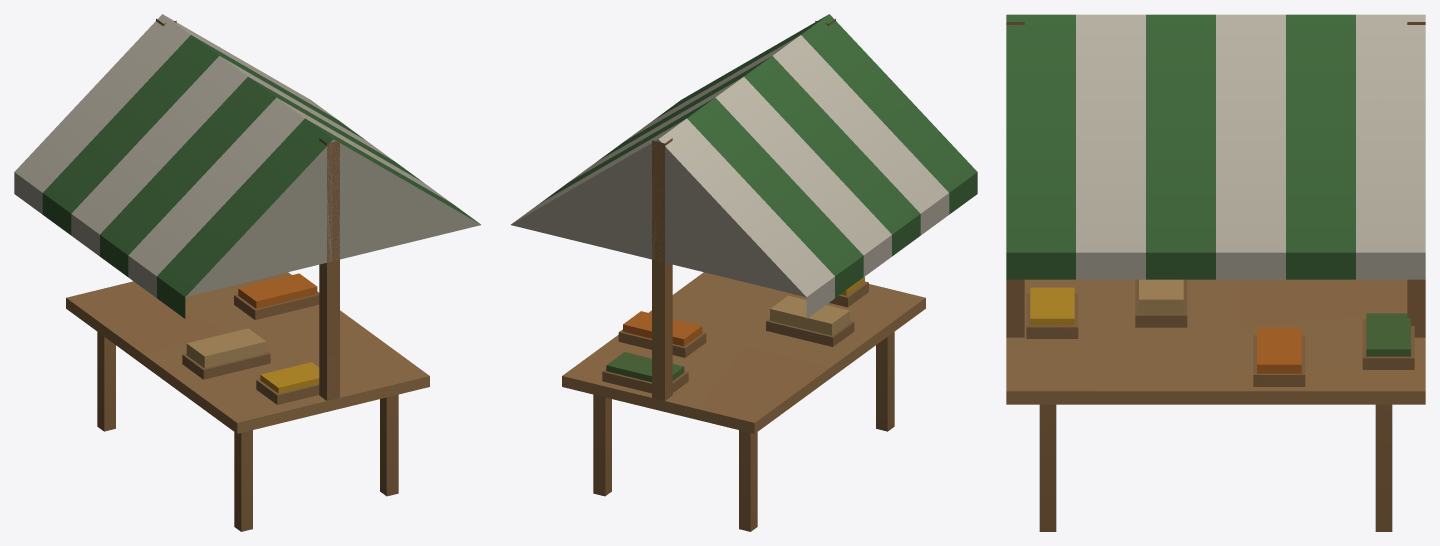
File: stall.market.green.glb
3 renders of one model, left to right at view 1: azimuth 30°, elevation 25°; view 2: azimuth 150°, elevation 25°; view 3: azimuth 270°, elevation 25°, orthographic. The views are drawn at different scales.
Parts seen in each view (by area): view 1: stall_market_green; view 2: stall_market_green; view 3: stall_market_green.
Part boxes in pixels (x1=…): stall_market_green: x1=14, y1=14, x2=480, y2=531; stall_market_green: x1=511, y1=14, x2=977, y2=531; stall_market_green: x1=1006, y1=14, x2=1425, y2=531.
Size of what is drawn, in the model's own units: 2.26 by 2.8 by 2.26.
